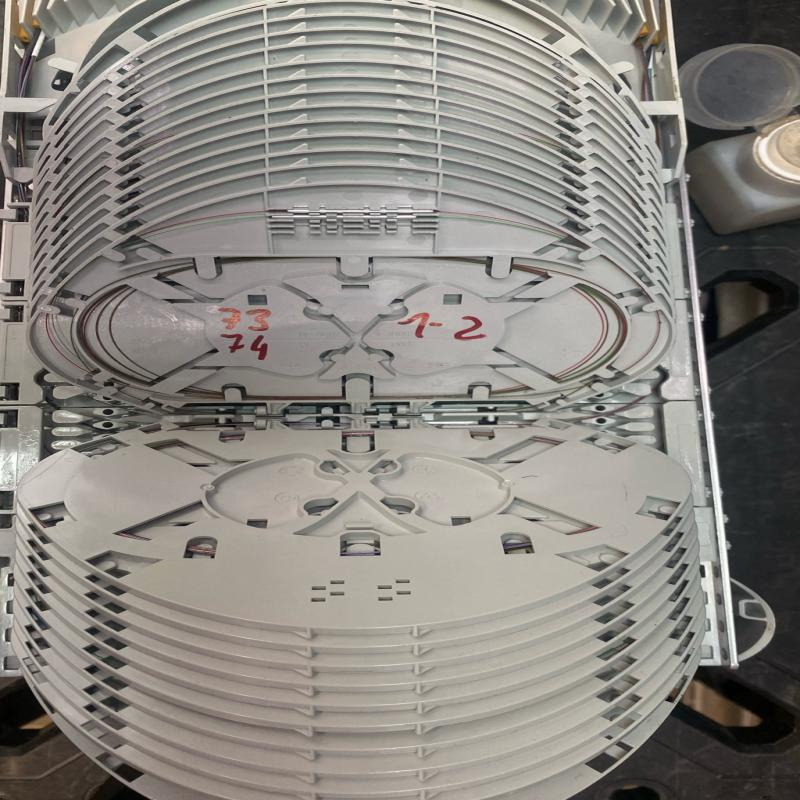NT-Muffen: (11, 6, 722, 796)
